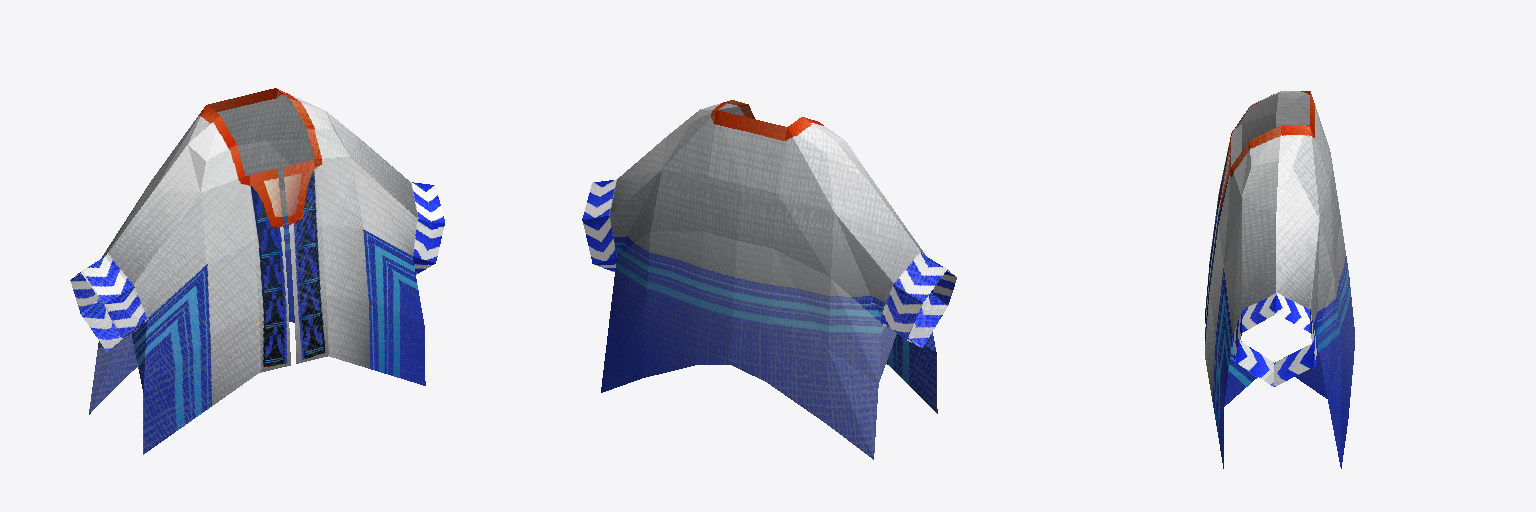
3 renders of one model, left to right at view 1: azimuth 30°, elevation 25°; view 2: azimuth 150°, elevation 25°; view 3: azimuth 270°, elevation 25°, orthographic.
Visible parts, largest first — view 1: cloth:Mesh; view 2: cloth:Mesh; view 3: cloth:Mesh.
Boxes of the visible parts, x1,y1,x2,y2 form: cloth:Mesh: [70, 88, 444, 454]; cloth:Mesh: [582, 100, 956, 459]; cloth:Mesh: [1205, 91, 1354, 468].
Bounding box in the file's own units: 426 × 340 × 157.
1 materials, 1 textured.